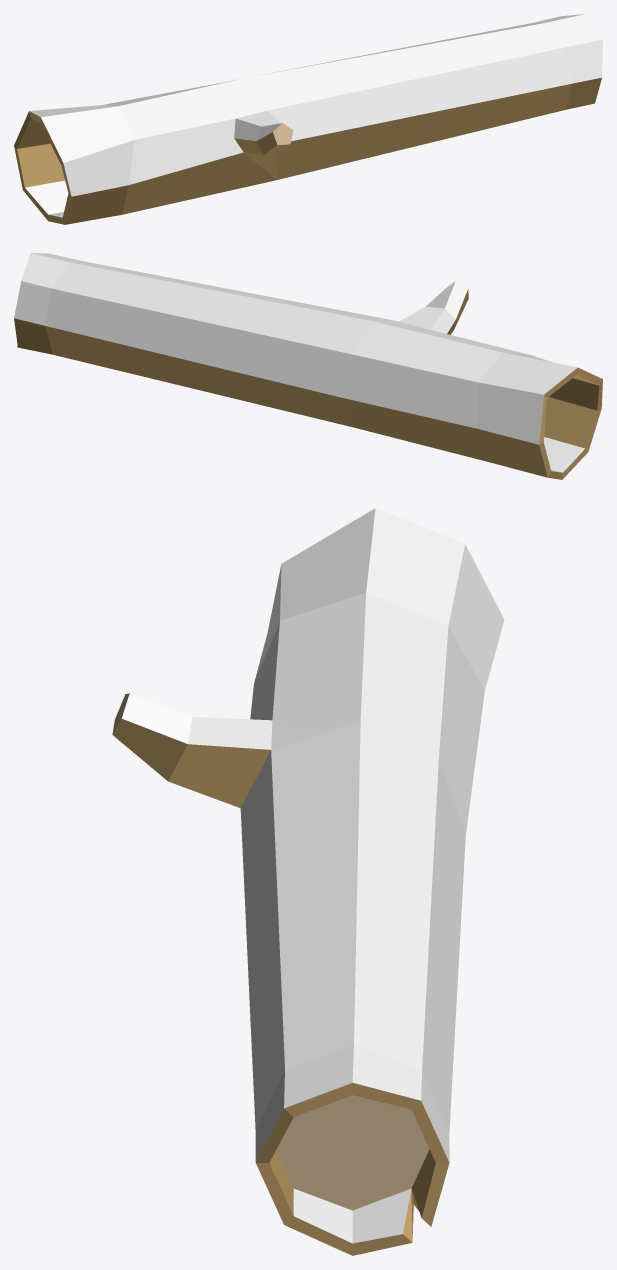
The model's file is Simple_Log_Snow_08_LOD.fbx.
3 renders of one model, top to bottom at view 1: azimuth 30°, elevation 25°; view 2: azimuth 150°, elevation 25°; view 3: azimuth 270°, elevation 25°, orthographic. The views are drawn at different scales.
Visible parts, largest first — view 1: Simple_Log_Snow_08_LOD0; view 2: Simple_Log_Snow_08_LOD0; view 3: Simple_Log_Snow_08_LOD0.
Part boxes in pixels (<box>): Simple_Log_Snow_08_LOD0: <box>14,14,602,224</box>; Simple_Log_Snow_08_LOD0: <box>14,253,602,479</box>; Simple_Log_Snow_08_LOD0: <box>112,508,504,1255</box>.
Size of what is drawn, in the model's own units: 210 by 41.56 by 65.89.
